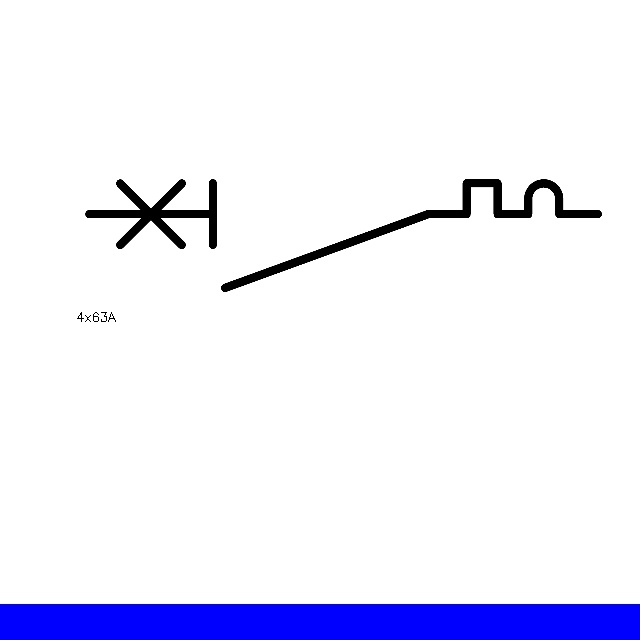interruptor_termomagnetico: (76, 170, 611, 301)
